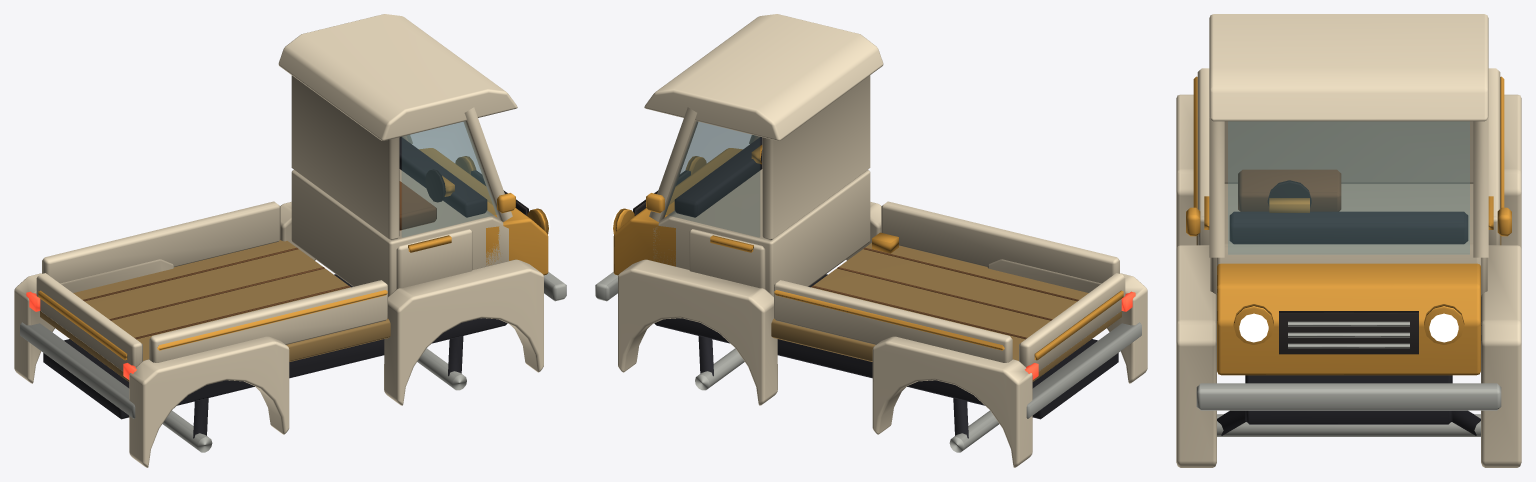
Rendered from truck_van.glb.
3 renders of one model, left to right at view 1: azimuth 30°, elevation 25°; view 2: azimuth 150°, elevation 25°; view 3: azimuth 270°, elevation 25°, orthographic. The views are drawn at different scales.
Visible parts, largest first — view 1: Ladder frame, Windscreen, Tailgate, Stamped half-door.001, Axle shaft, Axle shaft.001; view 2: Ladder frame, Windscreen, Tailgate, Axle shaft, Axle shaft.001; view 3: Ladder frame, Windscreen, Axle shaft.001, Headlamp lens, Stamped half-door.001.
Part boxes in pixels (<box>): Ladder frame: <box>14,14,566,467</box>; Windscreen: <box>402,121,497,237</box>; Tailgate: <box>36,273,142,371</box>; Stamped half-door.001: <box>396,229,472,288</box>; Axle shaft: <box>162,398,212,452</box>; Axle shaft.001: <box>417,336,466,390</box>; Ladder frame: <box>595,14,1147,467</box>; Windscreen: <box>664,121,759,237</box>; Tailgate: <box>1019,273,1125,371</box>; Axle shaft: <box>949,398,999,452</box>; Axle shaft.001: <box>695,336,744,390</box>; Ladder frame: <box>1176,14,1521,467</box>; Windscreen: <box>1228,121,1469,254</box>; Axle shaft.001: <box>1217,410,1480,436</box>; Headlamp lens: <box>1239,313,1458,342</box>; Stamped half-door.001: <box>1204,196,1216,296</box>.
Size of the model in its own units: 3.93 by 2.53 by 2.04.
